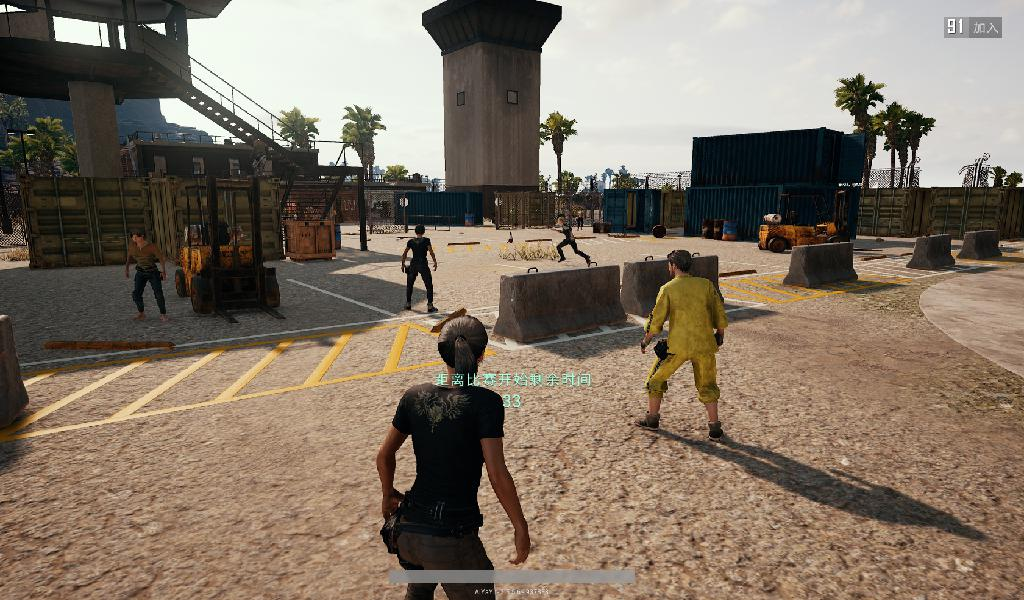Target Person: (376, 313, 533, 600), (639, 248, 725, 441), (119, 226, 169, 321), (401, 225, 438, 317), (544, 215, 592, 267), (573, 210, 585, 231)
